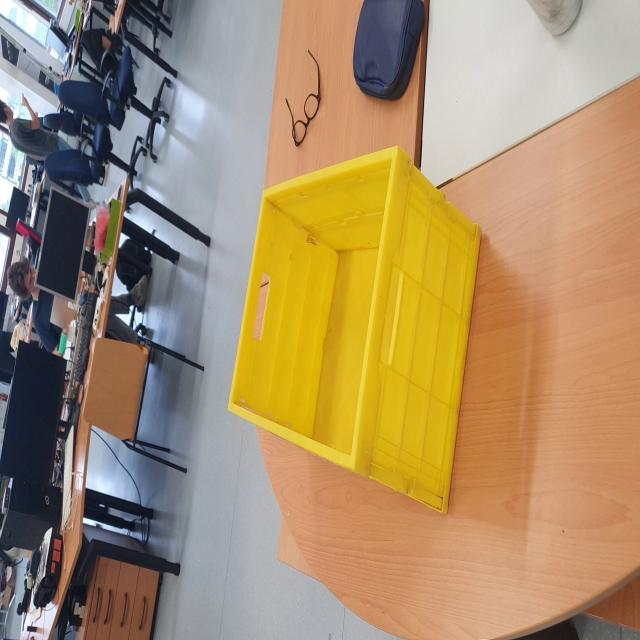box: (226, 144, 488, 524)
